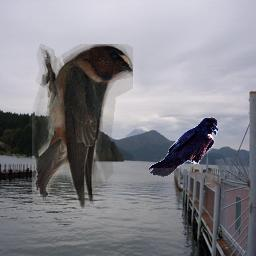Crow: (149, 117, 218, 177)
Swallow: (32, 44, 133, 209)
